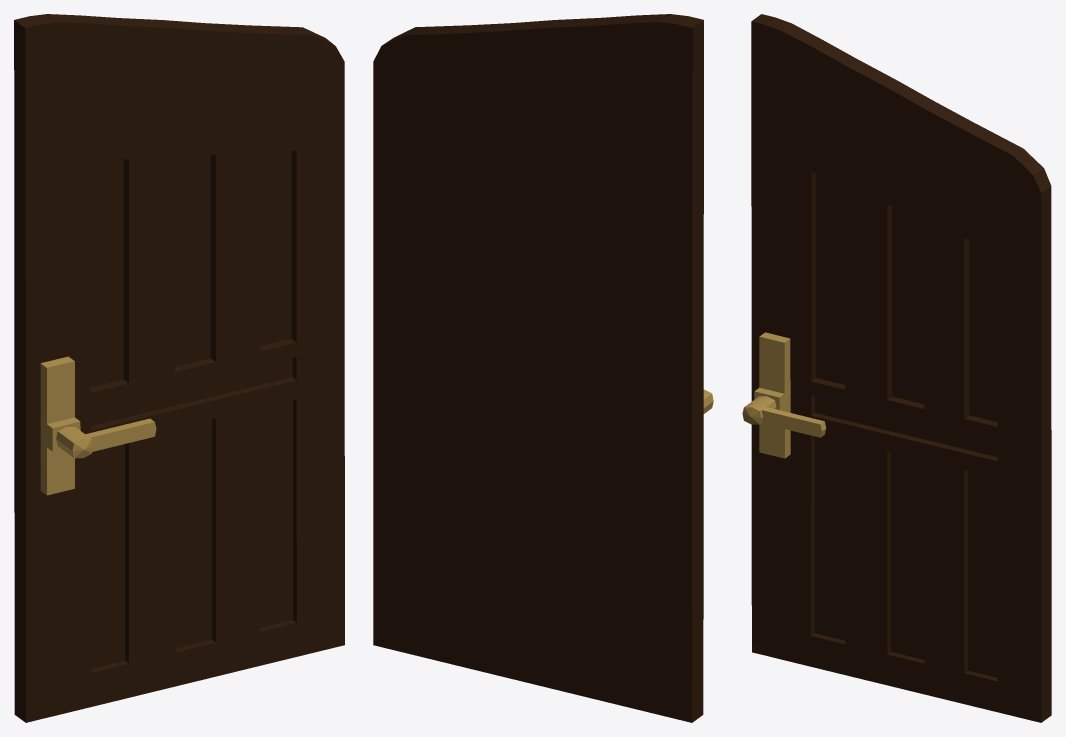
The model's file is MiscGrandDoorRightUV.fbx.
The picture shows the model from 3 angles, left to right: view 1: azimuth 30°, elevation 25°; view 2: azimuth 150°, elevation 25°; view 3: azimuth 330°, elevation 25°; orthographic projection. The views are drawn at different scales.
Parts seen in each view (by area): view 1: doorR1; view 2: doorR1; view 3: doorR1.
Part boxes in pixels (box(x1,y1,x2,y2)): doorR1: box(14, 14, 344, 722); doorR1: box(373, 14, 713, 722); doorR1: box(742, 14, 1051, 722).
Bounding box in the file's own units: 139 × 288 × 31.02.
